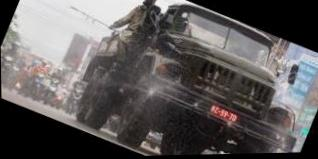License_Plate: (209, 102, 238, 125)
